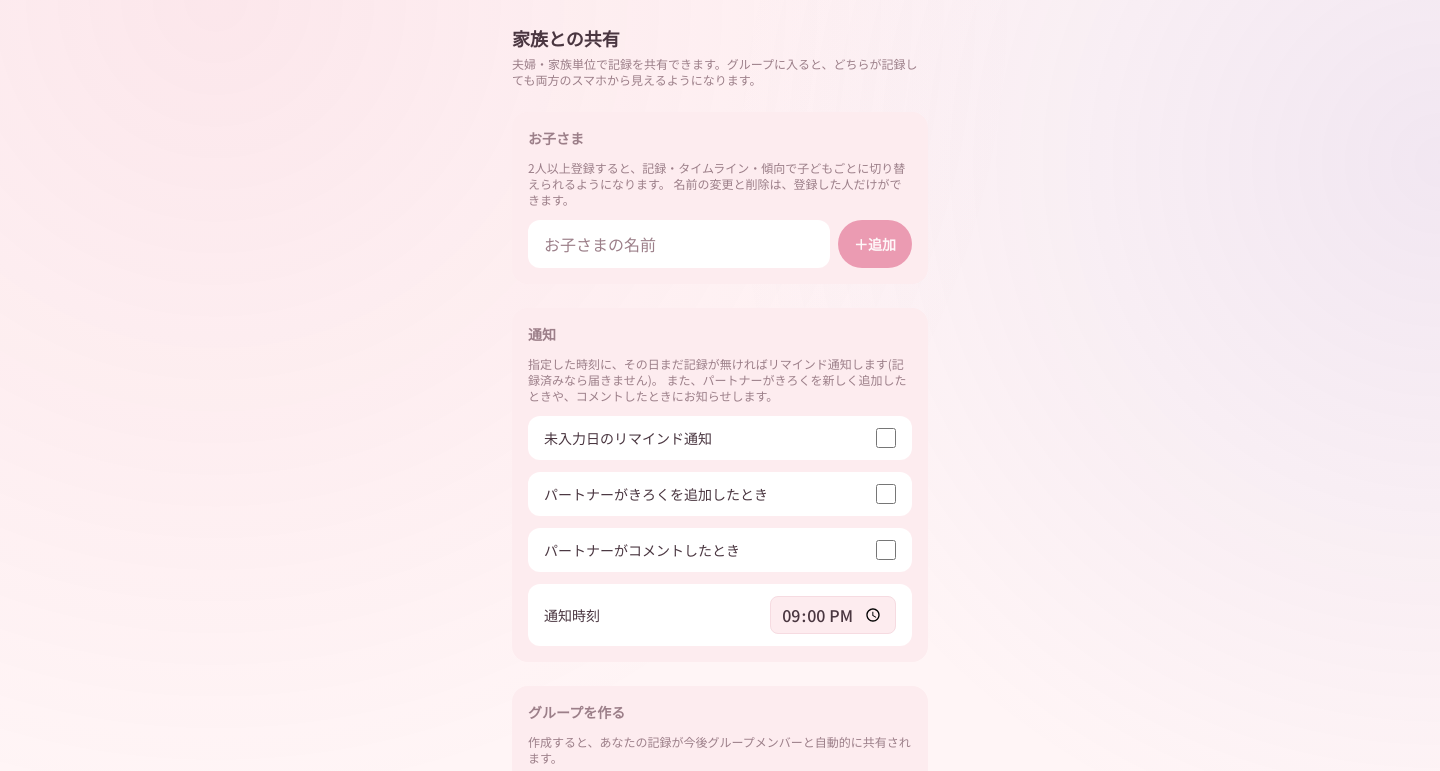
Scenario: GroupPage: お子さま › 追加に失敗したらエラーを出し、入力を消さない
This screenshot has width=1440, height=771.
Type "はなこ" into the field with placeholder "お子さまの名前" at (679,244), box x1=528 y1=220 x2=830 y2=268
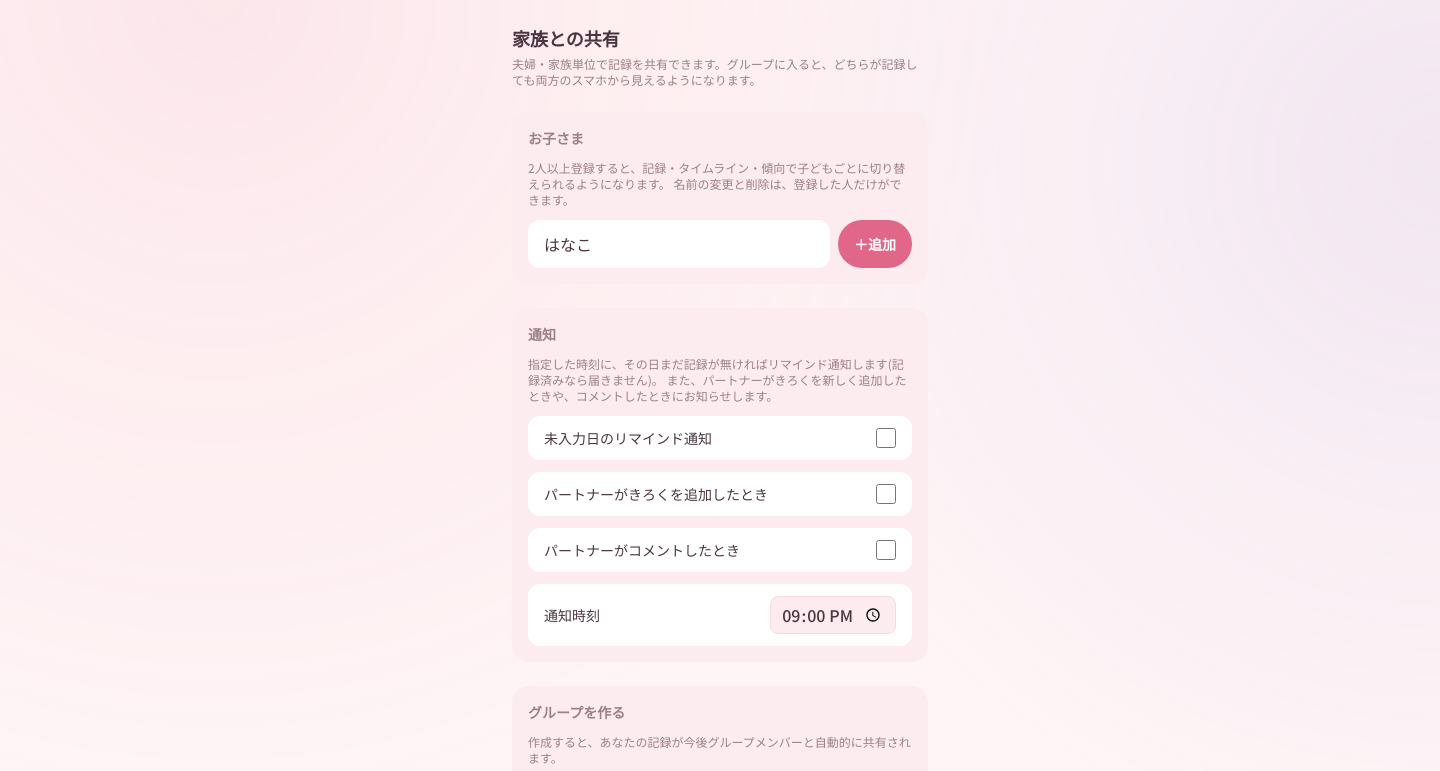
Click the button "＋追加" at (875,244), box x1=838 y1=220 x2=912 y2=268
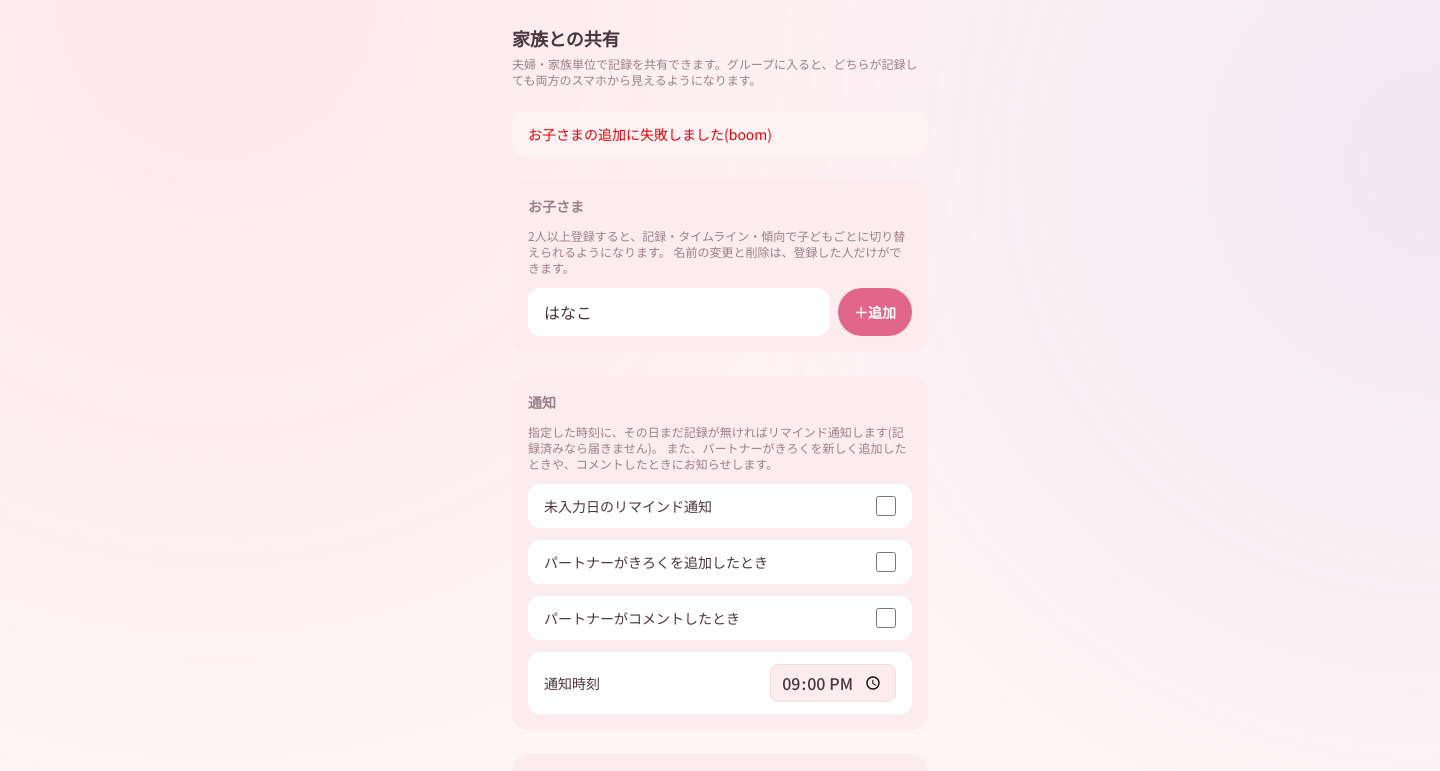
Expected: the text "お子さまの追加に失敗しました(boom)" is shown, x1=512 y1=112 x2=928 y2=156
